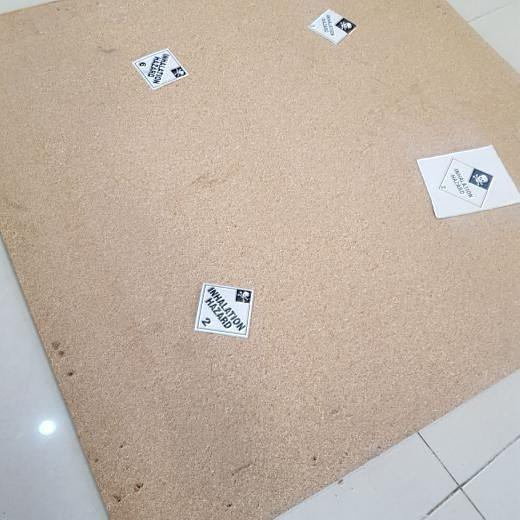poison: (195, 283, 254, 337), (437, 157, 495, 210), (132, 46, 190, 92), (307, 9, 358, 46)
